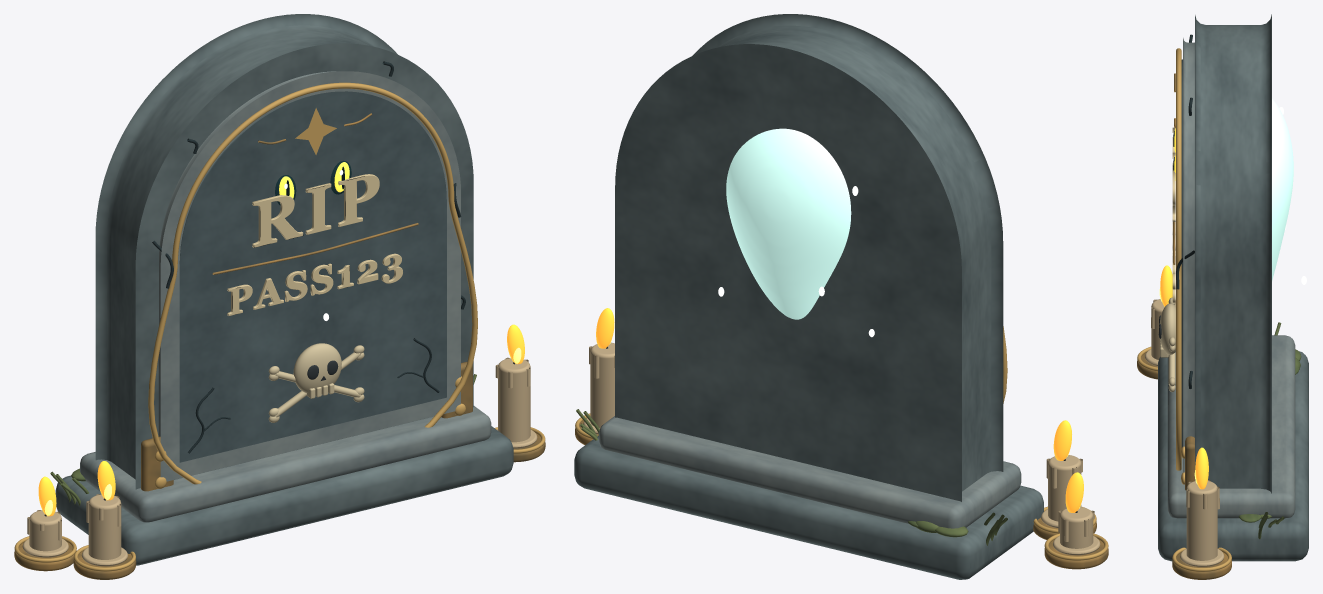
The model's file is lapide.glb.
3 renders of one model, left to right at view 1: azimuth 30°, elevation 25°; view 2: azimuth 150°, elevation 25°; view 3: azimuth 270°, elevation 25°, orthographic. The views are drawn at different scales.
Visible parts, largest first — view 1: PASS123_Pedra_e_velas; view 2: PASS123_Pedra_e_velas, FANTASMA | corpo e cauda; view 3: PASS123_Pedra_e_velas, FANTASMA | corpo e cauda.
Part boxes in pixels (left/top/right/bottom): PASS123_Pedra_e_velas: left=14, top=14, right=545, bottom=579; PASS123_Pedra_e_velas: left=574, top=14, right=1108, bottom=579; FANTASMA | corpo e cauda: left=726, top=128, right=851, bottom=319; PASS123_Pedra_e_velas: left=1137, top=14, right=1308, bottom=579; FANTASMA | corpo e cauda: left=1272, top=98, right=1293, bottom=280.
Size of what is drawn, in the model's own units: 1.42 by 1.21 by 0.427.
Materials: 19 (13 with a texture image).
